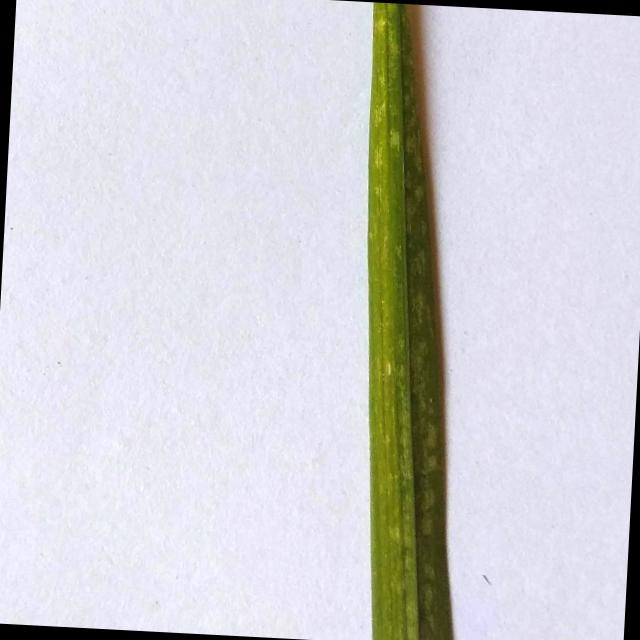Rice_Healthy: (368, 2, 453, 640)
